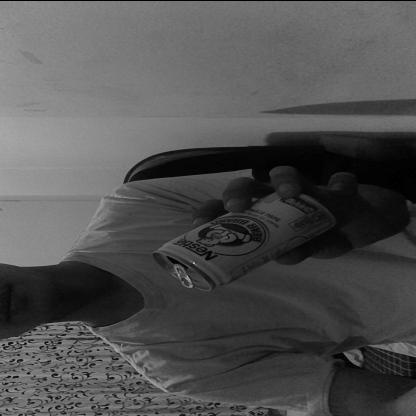alumunium_can: (147, 190, 332, 290)
